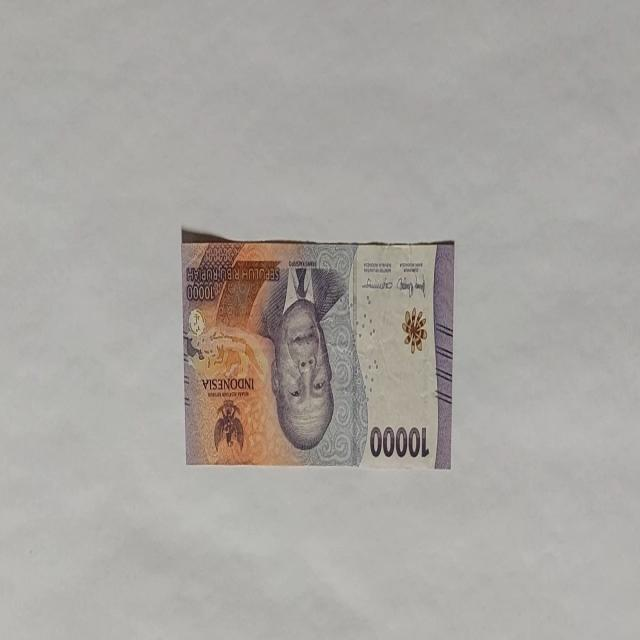sepuluh ribu rupiah: (182, 232, 454, 469), (260, 263, 347, 454)
